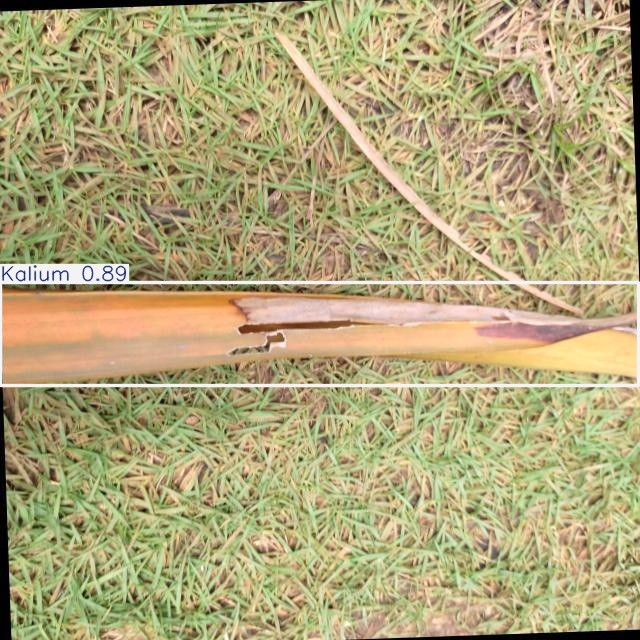Kalium: (0, 283, 639, 385)
